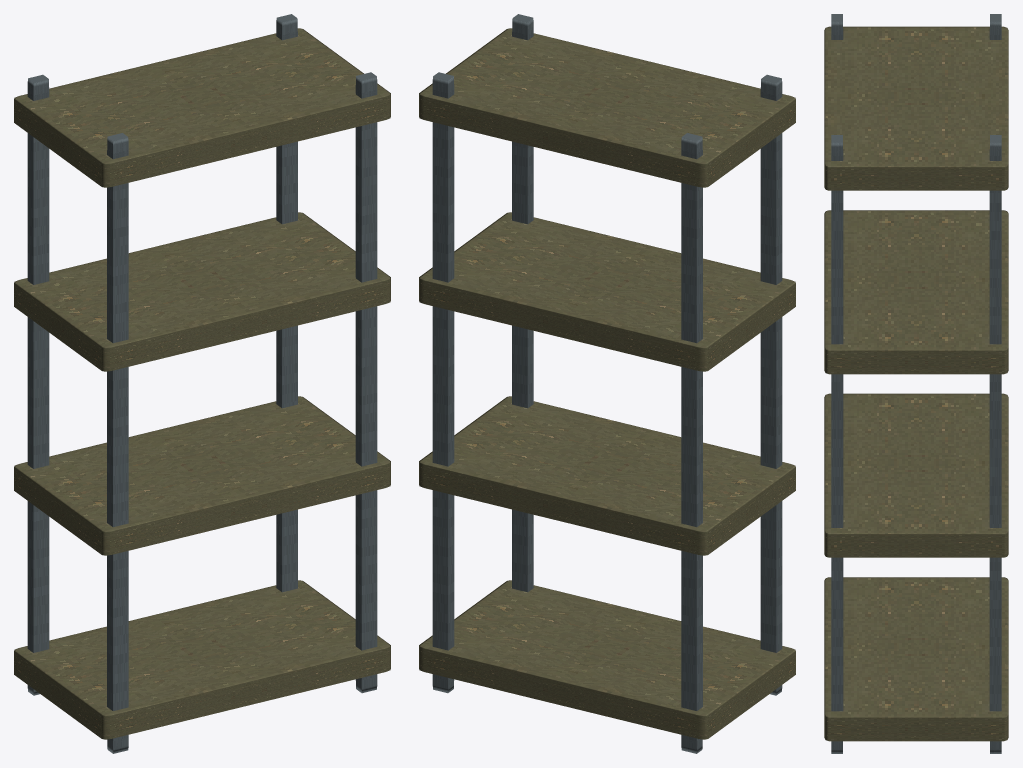
The model's file is mask-cubby.glb.
3 views of the same model, side by side, from view 1: azimuth 30°, elevation 25°; view 2: azimuth 150°, elevation 25°; view 3: azimuth 270°, elevation 25° (orthographic).
Visible parts, largest first — view 1: shelf (×4), leg (×4); view 2: shelf (×4), leg (×4); view 3: shelf (×4), leg (×2).
Boxes of the visible parts, bbox=[...] form: shelf (×4): bbox=[14, 28, 390, 739]; leg (×4): bbox=[27, 14, 377, 753]; shelf (×4): bbox=[419, 28, 795, 739]; leg (×4): bbox=[432, 14, 782, 753]; shelf (×4): bbox=[824, 26, 1008, 741]; leg (×2): bbox=[831, 135, 1001, 753].
Size of the model in its own units: 0.74 by 1.5 by 0.41.
Materials: 2 (2 with a texture image).
